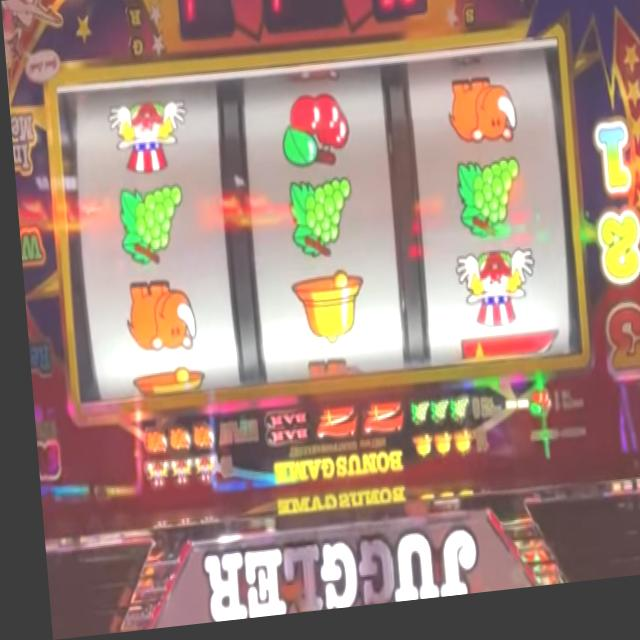bar: (255, 413, 301, 451)
bell: (283, 273, 360, 357), (125, 366, 199, 403), (442, 435, 466, 465), (424, 437, 446, 469), (404, 441, 425, 466)
cherry: (276, 96, 347, 178), (518, 398, 546, 433)
clown: (449, 256, 532, 344), (105, 98, 185, 182), (160, 459, 188, 494), (136, 460, 159, 494), (186, 456, 209, 488)
display: (52, 44, 577, 414)
elephant: (118, 278, 191, 362), (443, 86, 514, 158), (135, 429, 159, 455), (183, 426, 206, 453), (160, 427, 183, 454)
grape: (450, 163, 520, 254), (281, 180, 350, 268), (111, 185, 182, 270), (400, 404, 422, 434), (440, 404, 463, 432), (423, 407, 441, 431)
z: (451, 336, 551, 375), (356, 402, 396, 442), (307, 408, 349, 444)
